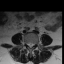CCS_normal: (29, 41, 31, 49)
LFS_normal: (33, 41, 35, 47)
LLS_normal: (31, 41, 33, 49)
RFS_normal: (25, 40, 27, 47)
RLS_normal: (27, 41, 29, 48)
